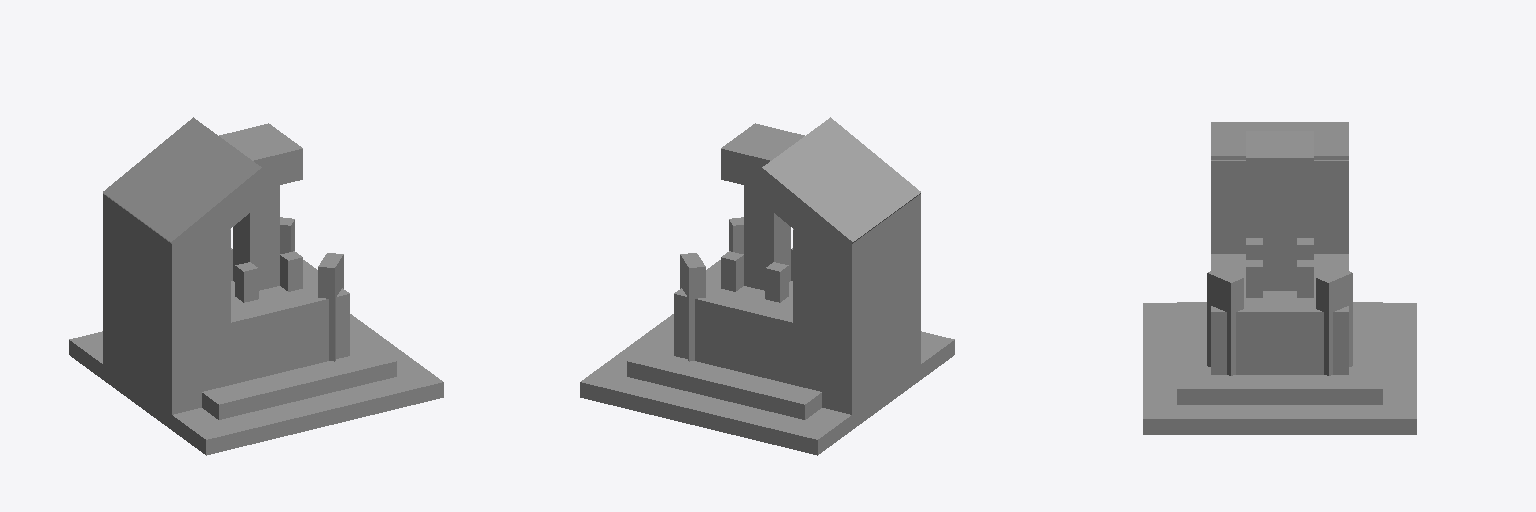
File: gas_centrifuge.obj
3 views of the same model, side by side, from view 1: azimuth 30°, elevation 25°; view 2: azimuth 150°, elevation 25°; view 3: azimuth 270°, elevation 25° (orthographic).
Visible parts, largest first — view 1: G, H, A, D, B, C, I, E, LROT, JROT; view 2: G, H, A, D, B, C, I, F, MROT, KROT; view 3: A, B, D, G, I, C, H, E, F, KROT, JROT.
Boxes of the visible parts, x1,y1,x2,y2 form: G: [103, 194, 230, 423]; H: [103, 117, 275, 264]; A: [69, 314, 443, 455]; D: [231, 260, 349, 384]; B: [202, 327, 396, 419]; C: [233, 185, 279, 290]; I: [219, 123, 302, 186]; E: [318, 253, 343, 361]; LROT: [235, 262, 258, 302]; JROT: [280, 251, 302, 291]; G: [793, 194, 920, 428]; H: [748, 117, 920, 265]; A: [580, 314, 954, 455]; D: [674, 260, 792, 384]; B: [627, 327, 821, 419]; C: [744, 185, 790, 290]; I: [721, 123, 804, 186]; F: [680, 253, 705, 361]; MROT: [765, 262, 788, 302]; KROT: [721, 251, 743, 291]; A: [1143, 303, 1416, 434]; B: [1177, 302, 1382, 404]; D: [1211, 254, 1348, 374]; G: [1211, 160, 1348, 253]; I: [1246, 131, 1313, 188]; C: [1263, 189, 1296, 290]; H: [1211, 122, 1348, 159]; E: [1207, 268, 1243, 375]; F: [1316, 268, 1352, 375]; KROT: [1297, 260, 1313, 297]; JROT: [1246, 260, 1262, 297].
Bounding box in the file's own units: 1 × 0.9687 × 1.